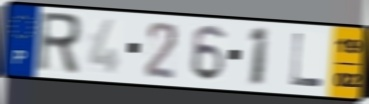1: (247, 25, 269, 89)
2: (141, 21, 180, 82)
4: (86, 17, 124, 77)
6: (187, 24, 228, 84)
L: (289, 31, 325, 89)
R: (34, 10, 83, 77)
